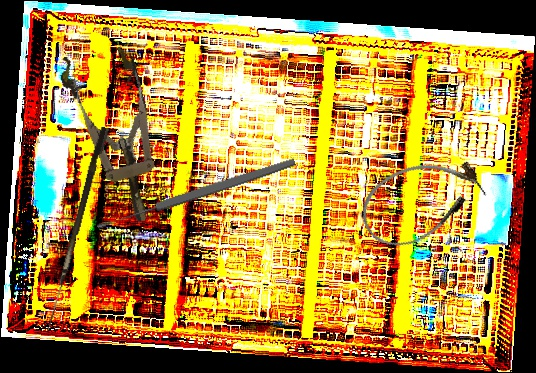Cannula: (349, 142, 494, 260)
Hook Surgical: (46, 125, 110, 333)
Speculum: (55, 39, 178, 232)
Surgical Spoon: (95, 156, 297, 232)
